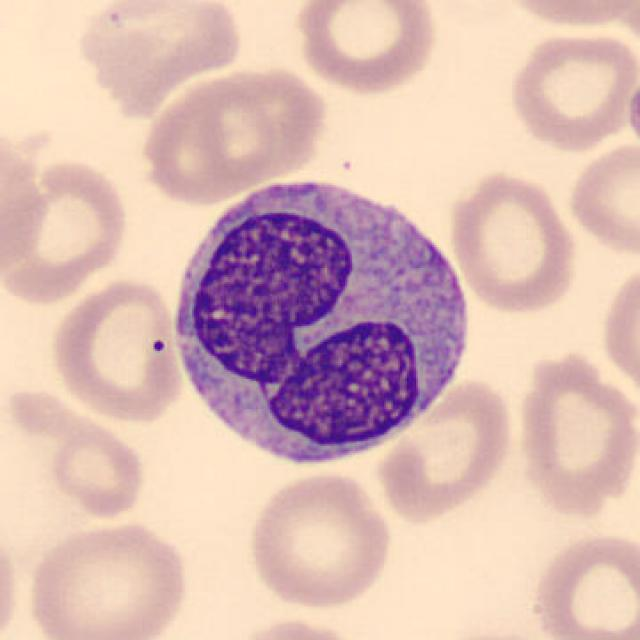Monocyte: (159, 167, 473, 483)
RBC: (135, 60, 331, 206), (510, 346, 638, 520), (2, 382, 151, 530), (244, 467, 396, 612), (373, 376, 518, 524), (46, 275, 187, 425), (21, 516, 191, 640), (444, 166, 580, 317), (2, 152, 133, 306), (69, 0, 247, 113), (503, 25, 637, 153), (290, 0, 442, 97), (524, 529, 638, 640), (0, 113, 53, 293), (563, 139, 640, 257), (597, 256, 640, 402), (496, 0, 638, 32), (225, 613, 366, 640), (0, 516, 23, 640), (626, 65, 640, 164)
